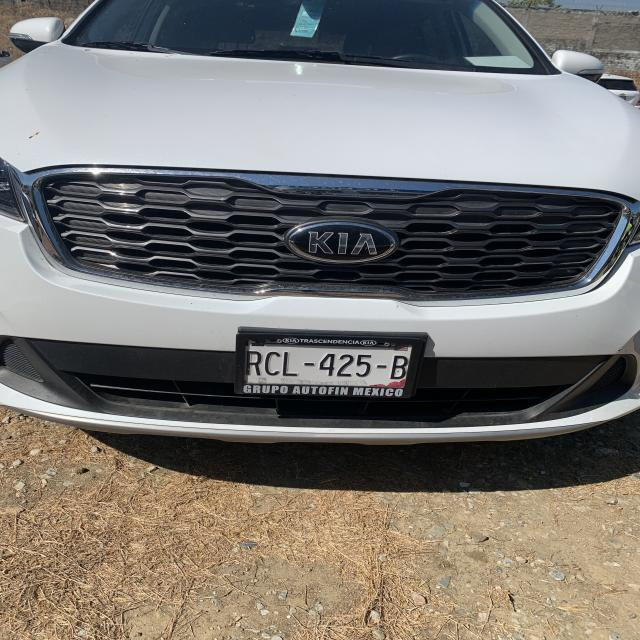placa: (245, 346, 412, 383)
